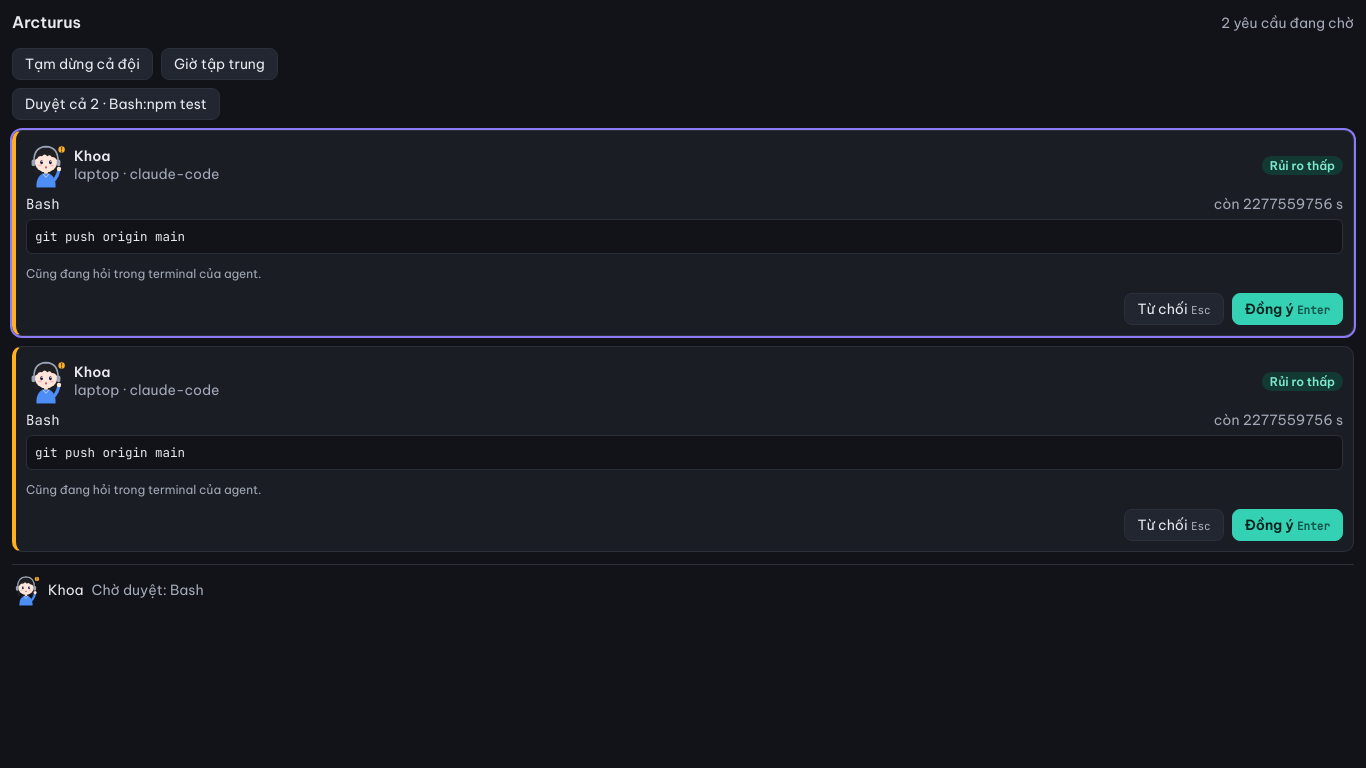
Test: LitePopupView › group_button_reports_failure_when_not_connected
Click the button "Duyệt cả 2 · Bash:npm test" at coordinates (116, 104), box [12, 88, 220, 120]
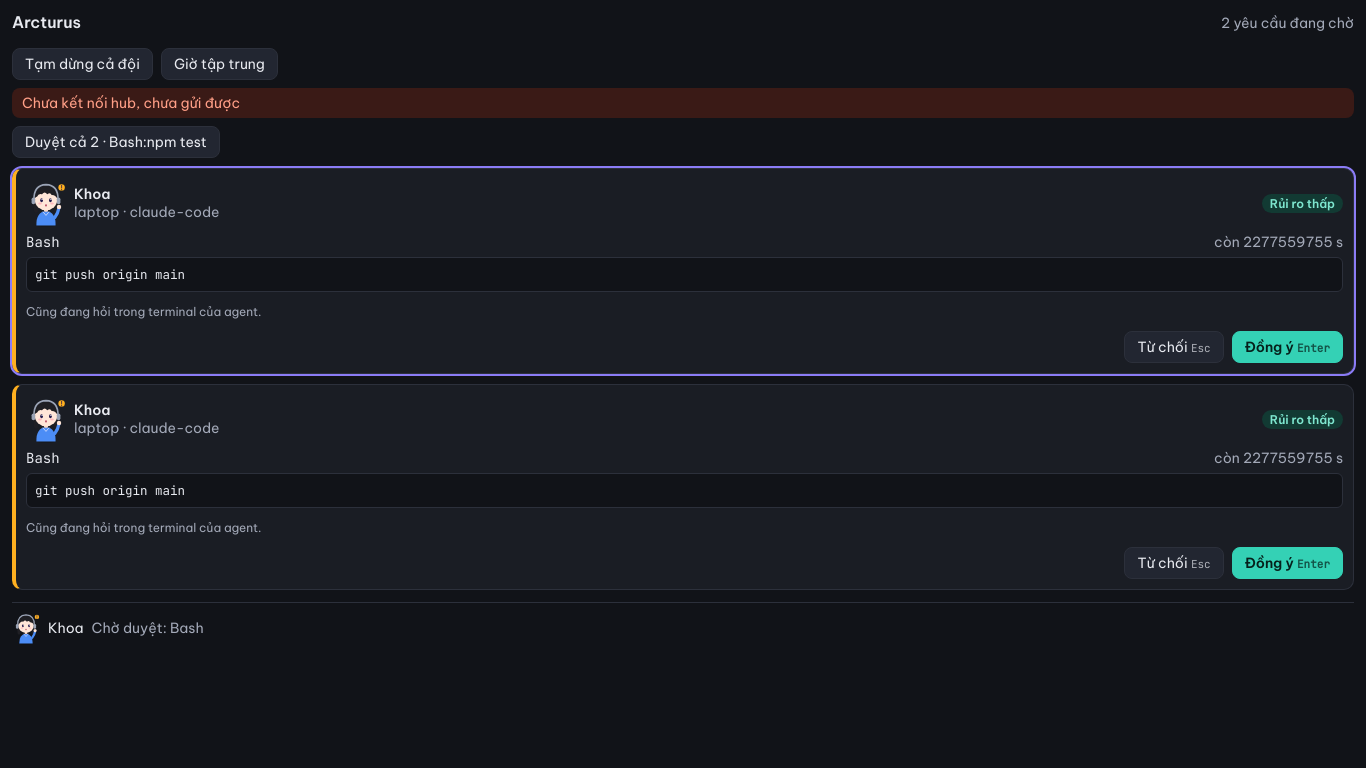
Check: the text "Chưa kết nối hub, chưa gửi được" is shown, box [12, 88, 1354, 118]
